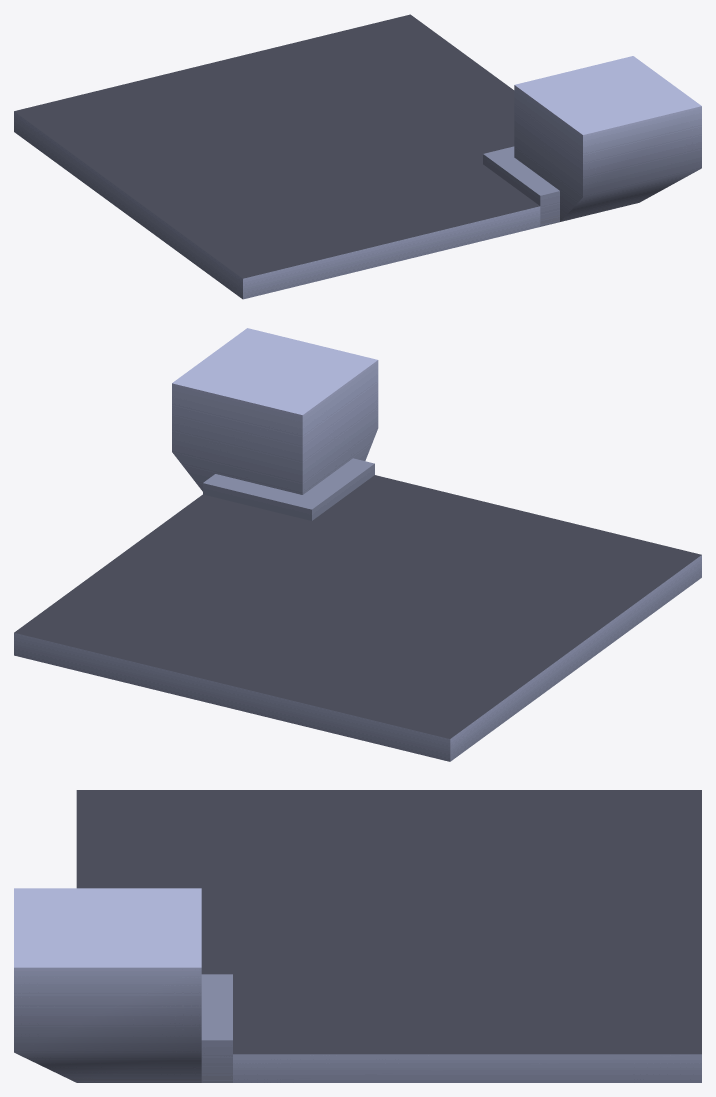
The model's file is architecture.ceiling.building_roof_flat_corner_inner_01.glb.
The picture shows the model from 3 angles, top to bottom: view 1: azimuth 30°, elevation 25°; view 2: azimuth 150°, elevation 25°; view 3: azimuth 270°, elevation 25°; orthographic projection. The views are drawn at different scales.
Parts seen in each view (by area): view 1: roof-flat-corner-inner; view 2: roof-flat-corner-inner; view 3: roof-flat-corner-inner.
Part boxes in pixels (bbox=[...]): roof-flat-corner-inner: bbox=[14, 14, 701, 299]; roof-flat-corner-inner: bbox=[14, 328, 701, 761]; roof-flat-corner-inner: bbox=[14, 790, 701, 1082].
Size of the model in its own units: 2.2 by 0.5 by 2.2.
1 material, 1 textured.
